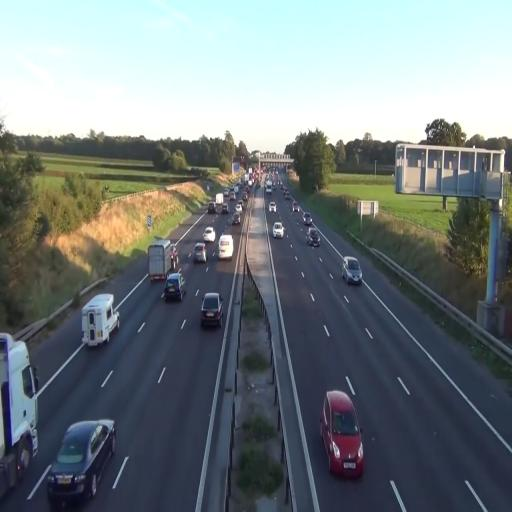vehicle: (0, 332, 39, 501), (46, 419, 116, 508), (320, 387, 364, 480), (81, 293, 120, 350), (148, 239, 172, 284), (200, 292, 222, 330), (164, 270, 186, 303), (342, 256, 362, 284), (218, 234, 234, 260), (203, 227, 217, 254), (191, 243, 207, 265), (272, 222, 284, 237), (310, 230, 320, 248)
